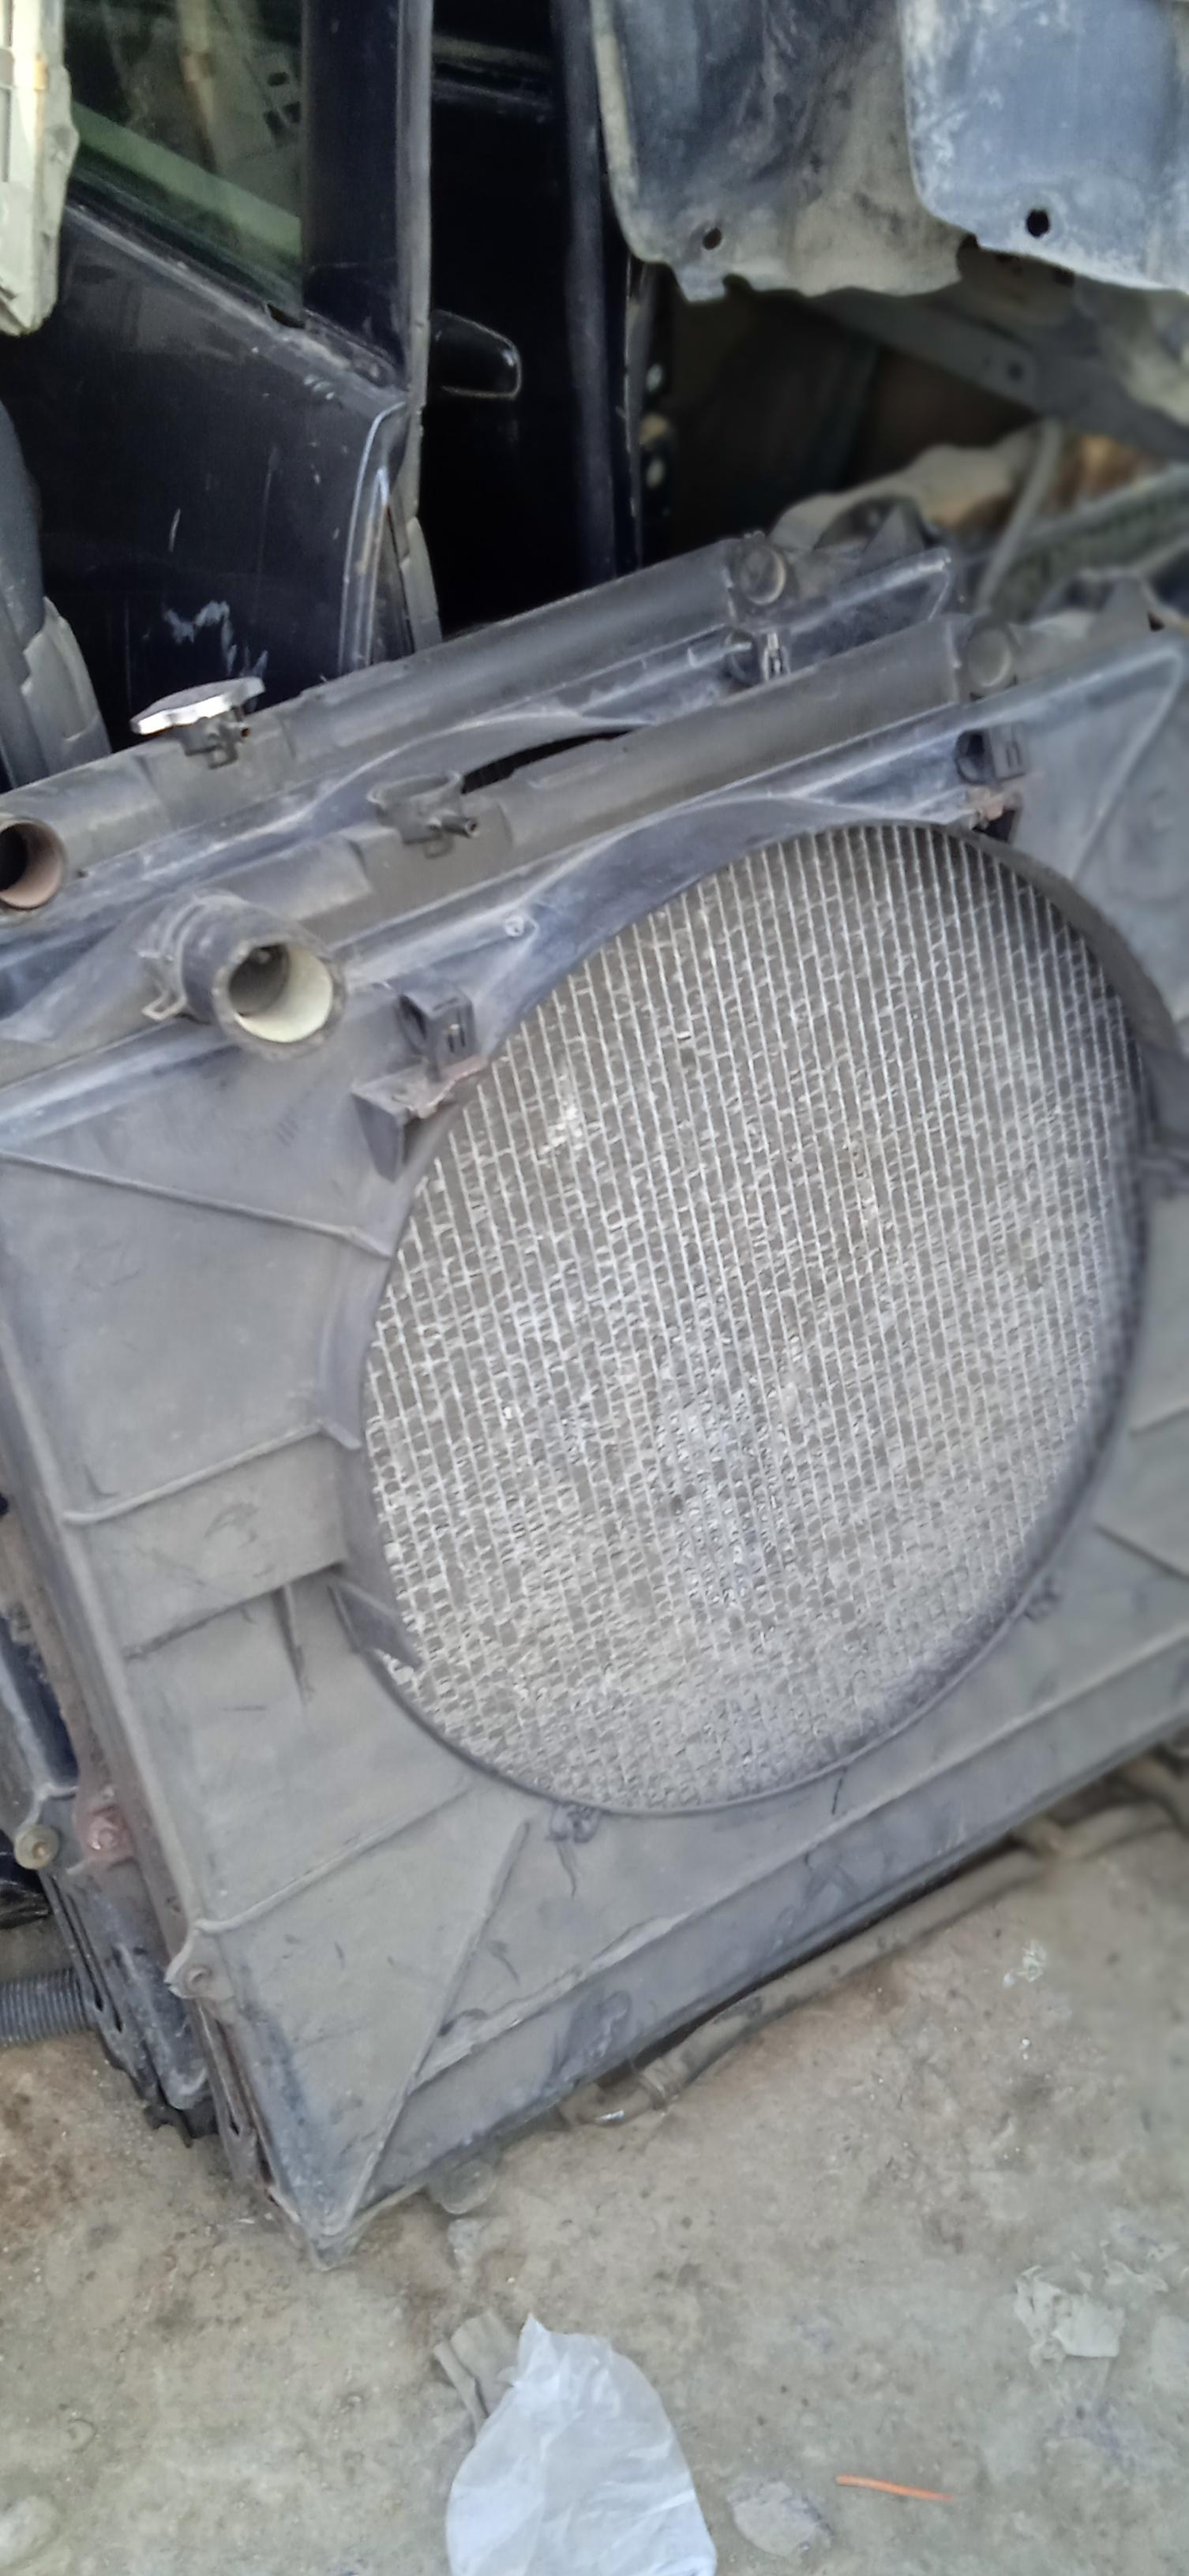automobile: (0, 494, 1189, 2262)
